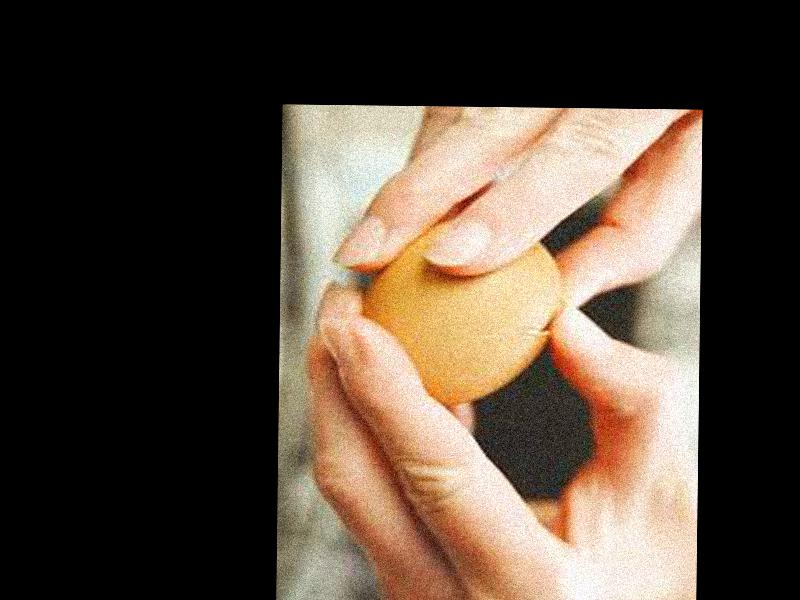Eggs: (358, 217, 565, 405)
